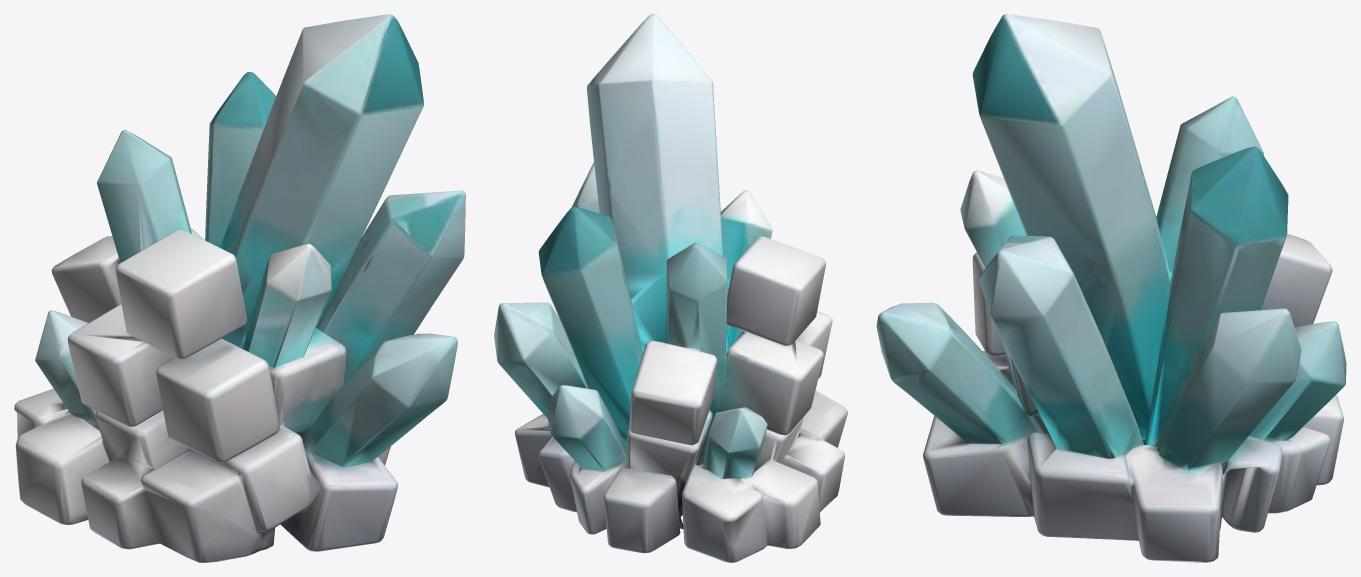
Rendered from salt_b.glb.
3 renders of one model, left to right at view 1: azimuth 30°, elevation 25°; view 2: azimuth 150°, elevation 25°; view 3: azimuth 270°, elevation 25°, orthographic. The views are drawn at different scales.
Visible parts, largest first — view 1: node_0; view 2: node_0; view 3: node_0.
Boxes of the visible parts, x1,y1,x2,y2 form: node_0: (14,14,465,562); node_0: (494,14,847,562); node_0: (876,14,1346,562).
Bounding box in the file's own units: 0.688 × 0.9134 × 0.7464.
1 material, 1 textured.
